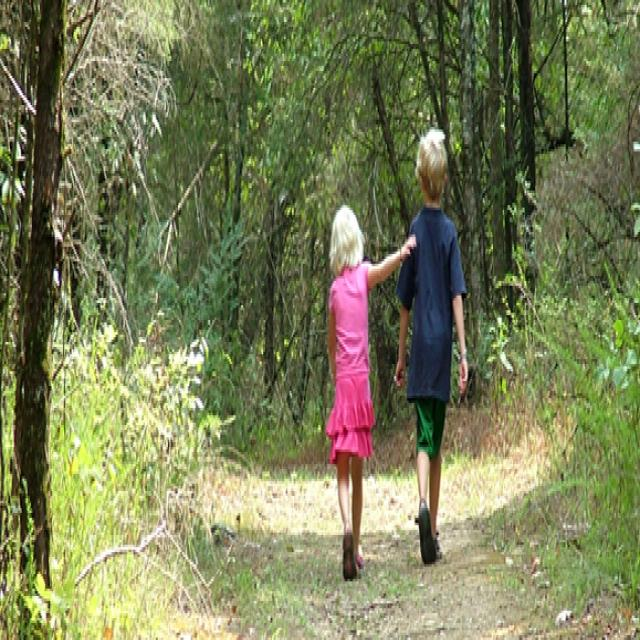Person: (394, 126, 471, 569), (327, 206, 416, 579)
